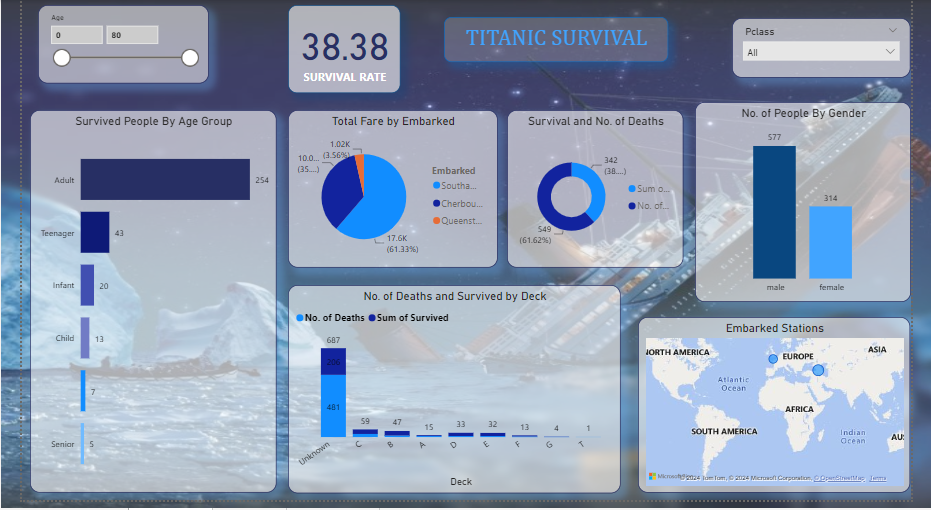

The page's visual inventory and layout, read from the dashboard file:
{"tool":"powerbi","page":{"name":"Survival","canvas":[1280,720],"ordinal":0},"visuals":[{"type":"pieChart","title":"Total Fare by Embarked","fields":{"Category":["Titanic_Survival.Embarked"],"Y":["Sum(Titanic_Survival.Total Fare)"]},"box":[383.5,158,301.5,226.7],"z":0},{"type":"map","title":"Embarked Stations","fields":{"Category":["Titanic_Survival.Embarked"],"Size":["Sum(Titanic_Survival.Total Fare)"]},"box":[887.6,455.9,392,253.3],"z":1000},{"type":"columnChart","title":"No. of Deaths and Survived by Deck","fields":{"Category":["Titanic_Survival.Deck"],"Y":["Titanic_Survival.No. of Deaths","Sum(Titanic_Survival.Survived)"]},"box":[383.5,410.1,478.8,300.3],"z":2000},{"type":"clusteredColumnChart","title":"No. of People By Gender","fields":{"Y":["CountNonNull(Titanic_Survival.Name)"],"Category":["Titanic_Survival.Sex"]},"box":[968.4,147.1,311.2,288.2],"z":3000},{"type":"card","fields":{"Values":["Titanic_Survival.SURVIVAL RATE"]},"box":[383.5,7.2,161.6,126.6],"z":4000},{"type":"donutChart","title":" Survival and No. of Deaths","fields":{"Y":["Sum(Titanic_Survival.Survived)","Titanic_Survival.No. of Deaths"]},"box":[698.3,158,254.5,226.7],"z":5000},{"type":"clusteredBarChart","title":"Survived People By Age Group","fields":{"Category":["Titanic_Survival.Age Group"],"Y":["Sum(Titanic_Survival.Survived)"]},"box":[10.9,158,354.6,551.2],"z":6000},{"type":"slicer","fields":{"Values":["Titanic_Survival.Age"]},"box":[22.5,7.5,246.2,112.5],"z":7000},{"type":"slicer","fields":{"Values":["Titanic_Survival.Pclass"]},"box":[1022.7,25.3,256.9,85.6],"z":8000},{"type":"textbox","box":[607.5,25,322.5,65],"z":9000}]}

Visuals, with their boxes in screenshot pixels (x1, y1, x2, y2), scaled from the page's 1280x720 canvas onto the 931x510 screenshot:
"Total Fare by Embarked" pieChart: BBox(279, 112, 498, 272)
"Embarked Stations" map: BBox(646, 323, 930, 502)
"No. of Deaths and Survived by Deck" columnChart: BBox(279, 290, 627, 503)
"No. of People By Gender" clusteredColumnChart: BBox(704, 104, 930, 308)
card - Titanic_Survival.SURVIVAL RATE: BBox(279, 5, 396, 95)
" Survival and No. of Deaths" donutChart: BBox(508, 112, 693, 272)
"Survived People By Age Group" clusteredBarChart: BBox(8, 112, 266, 502)
slicer - Titanic_Survival.Age: BBox(16, 5, 195, 85)
slicer - Titanic_Survival.Pclass: BBox(744, 18, 930, 79)
textbox: BBox(442, 18, 676, 64)
